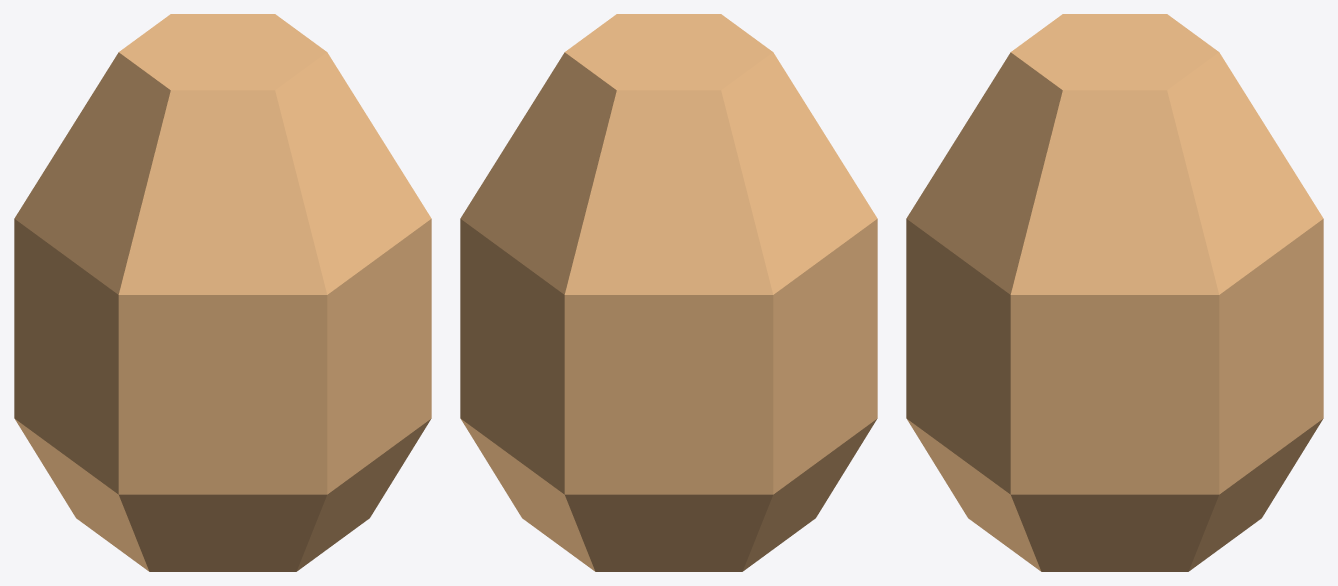
Rendered from egg.fbx.
3 renders of one model, left to right at view 1: azimuth 30°, elevation 25°; view 2: azimuth 150°, elevation 25°; view 3: azimuth 270°, elevation 25°, orthographic.
Parts seen in each view (by area): view 1: egg; view 2: egg; view 3: egg.
Boxes of the visible parts, x1,y1,x2,y2 form: egg: (14,14,431,571); egg: (460,14,877,571); egg: (906,14,1323,571).
Bounding box in the file's own units: 1.16 × 1.65 × 1.34.
